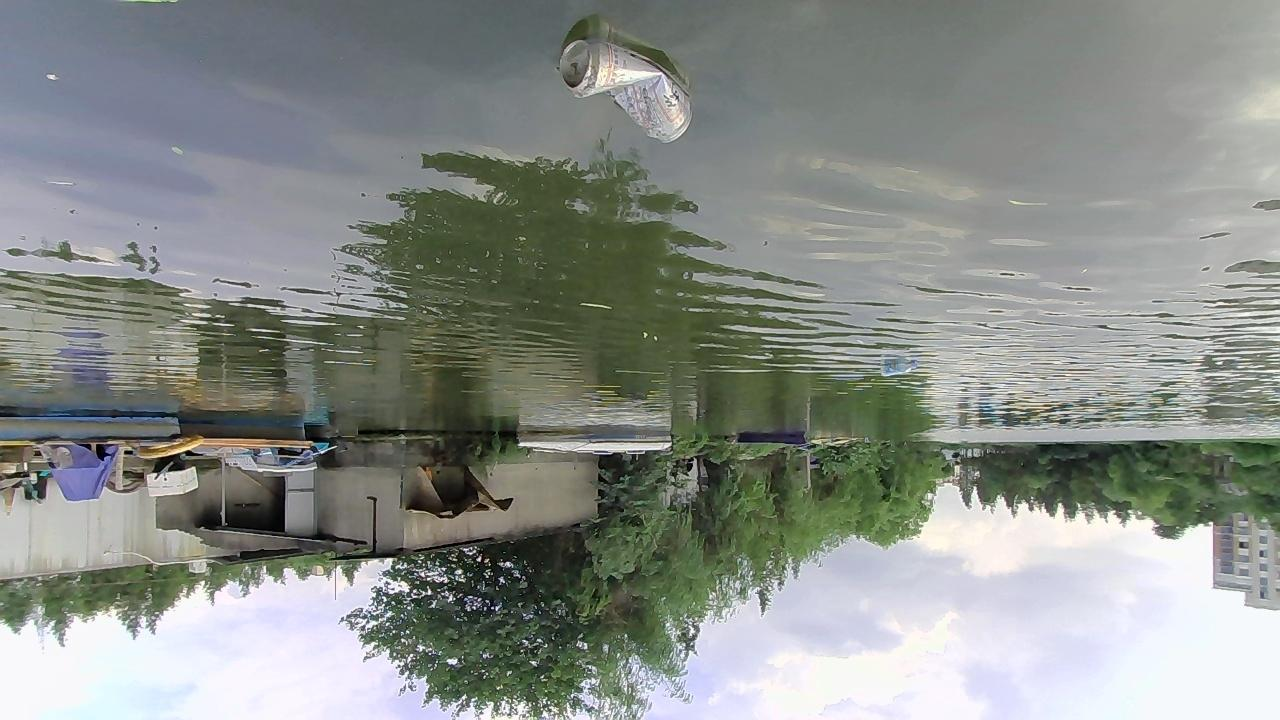Metal: (559, 38, 694, 147)
Plastic: (880, 360, 918, 378)
